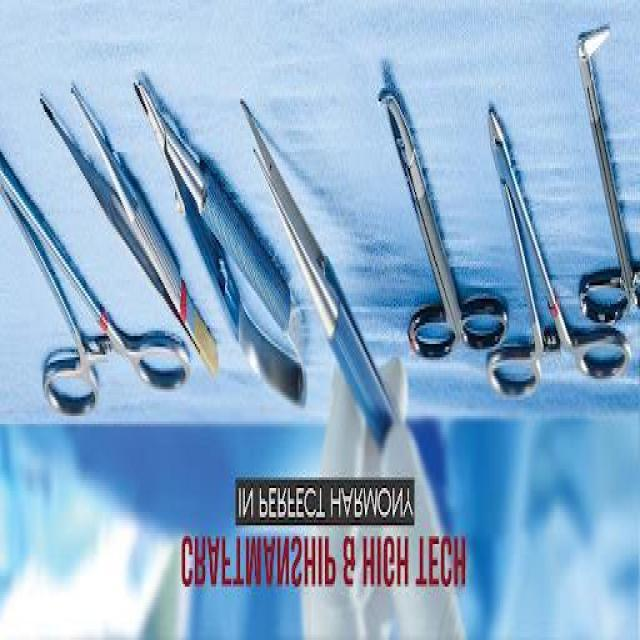Forceps: (132, 72, 310, 416), (238, 93, 392, 451), (38, 85, 222, 384)
Hemostat: (1, 152, 191, 424), (484, 102, 634, 406)
Mayo_metz: (377, 82, 512, 370)
Potts: (575, 18, 640, 330)
